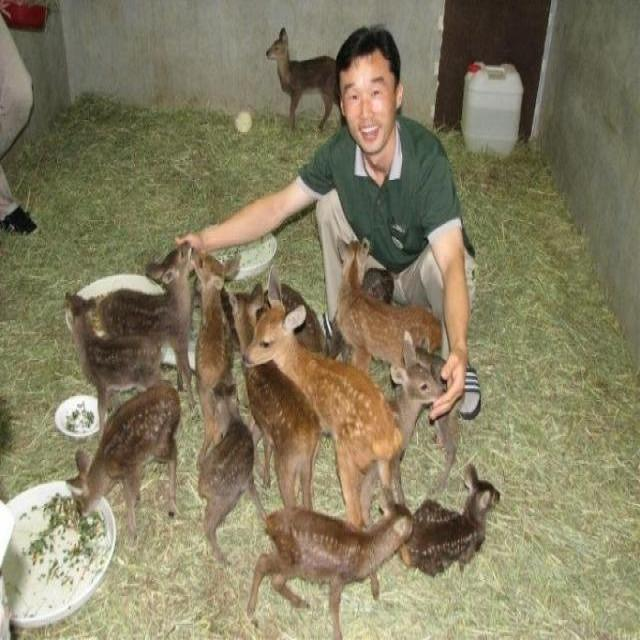deer: (258, 307, 396, 492), (49, 232, 192, 388), (263, 498, 413, 640), (69, 386, 183, 547), (238, 285, 320, 500), (408, 464, 510, 588), (193, 235, 246, 425), (56, 290, 158, 381), (251, 28, 335, 127), (208, 381, 254, 548), (398, 354, 443, 477)
